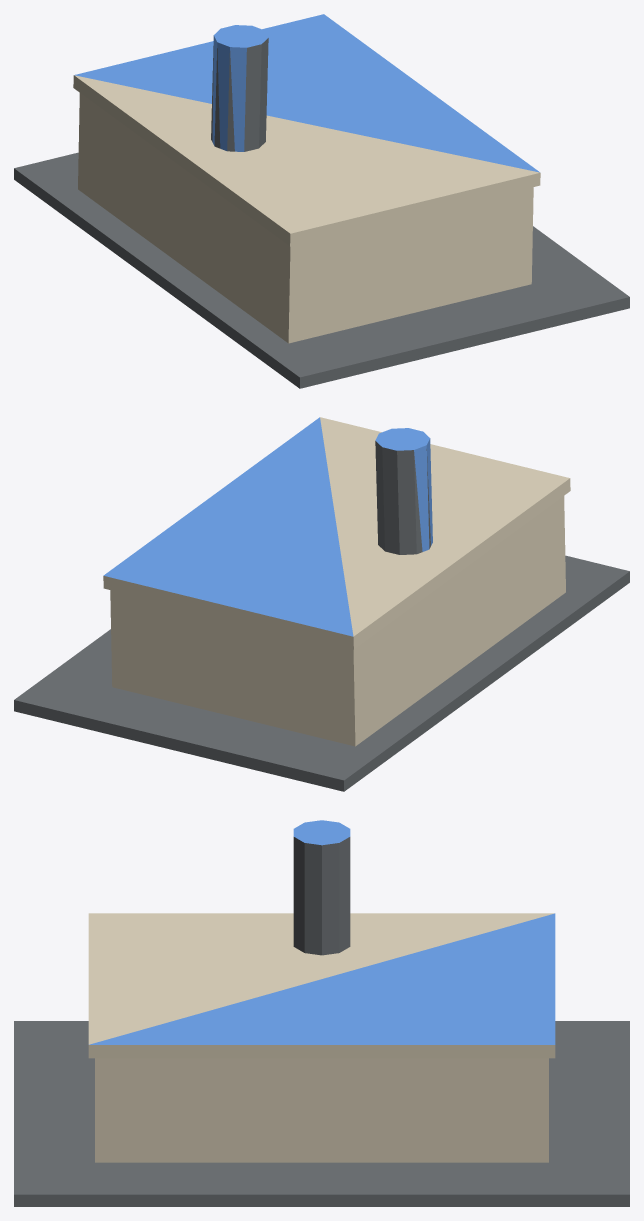
Rendered from meridian_power_plant_damaged.glb.
3 renders of one model, top to bottom at view 1: azimuth 30°, elevation 25°; view 2: azimuth 150°, elevation 25°; view 3: azimuth 270°, elevation 25°, orthographic. The views are drawn at different scales.
Parts seen in each view (by area): view 1: hull; view 2: hull; view 3: hull.
Part boxes in pixels (x1=…): hull: x1=14, y1=14, x2=629, y2=388; hull: x1=14, y1=417, x2=629, y2=791; hull: x1=14, y1=820, x2=629, y2=1206.
Bounding box in the file's own units: 7.6 × 5 × 11.4.
